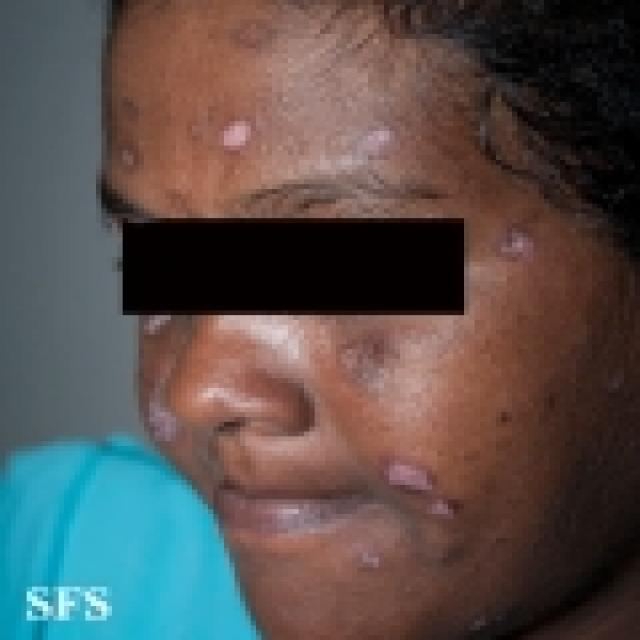lupus: (97, 87, 433, 188), (336, 438, 521, 596), (118, 303, 215, 447)
